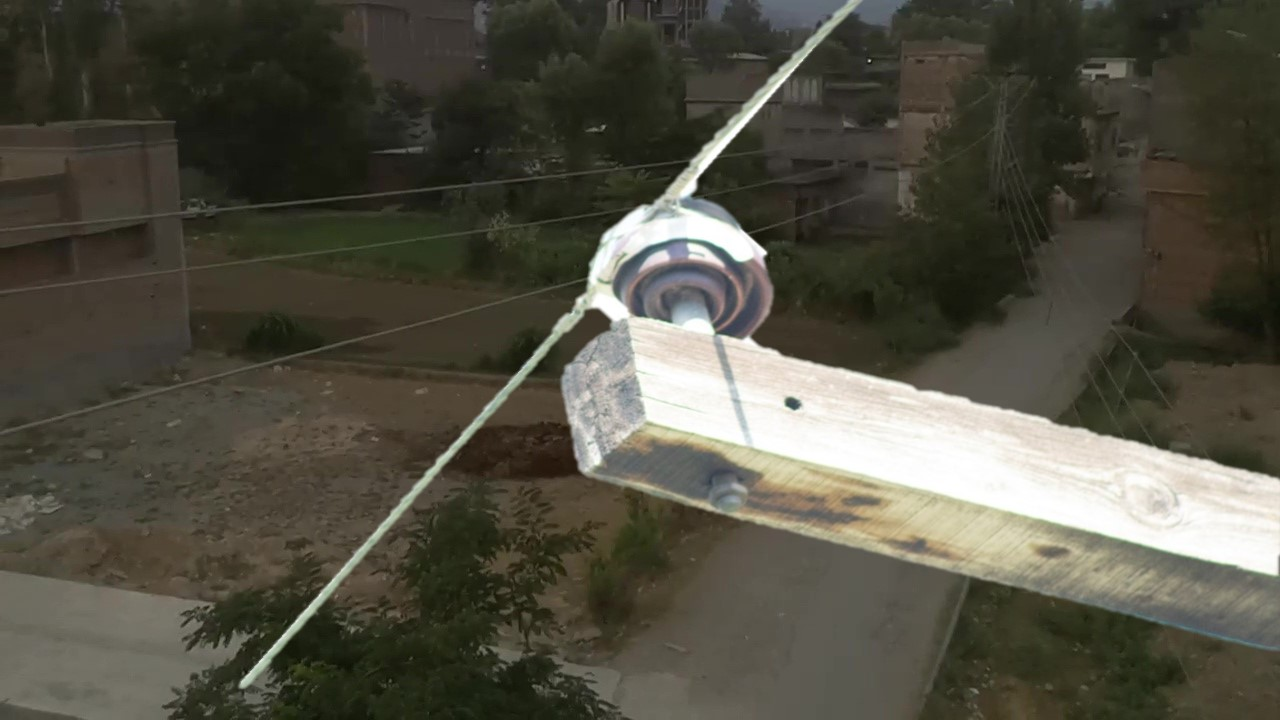defect_pin: (584, 188, 777, 333)
